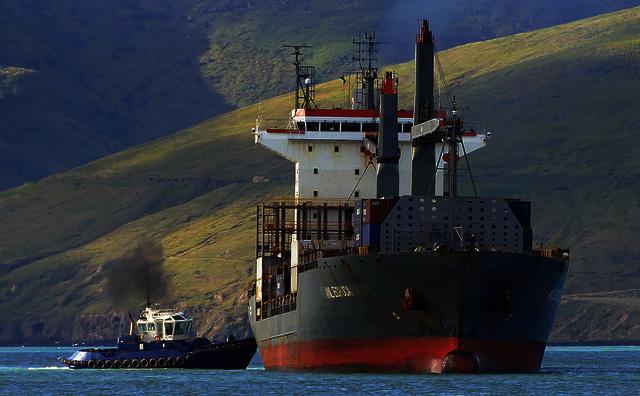container_ship: (250, 36, 568, 370)
tug_boat: (67, 292, 255, 369)
